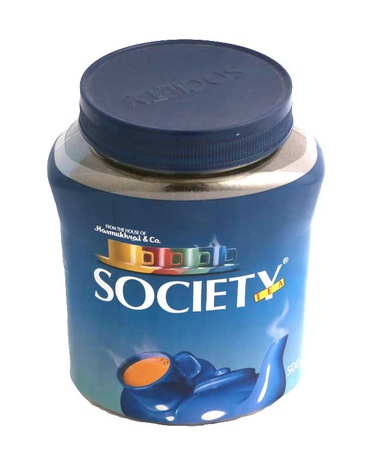society: (50, 128, 331, 428)
